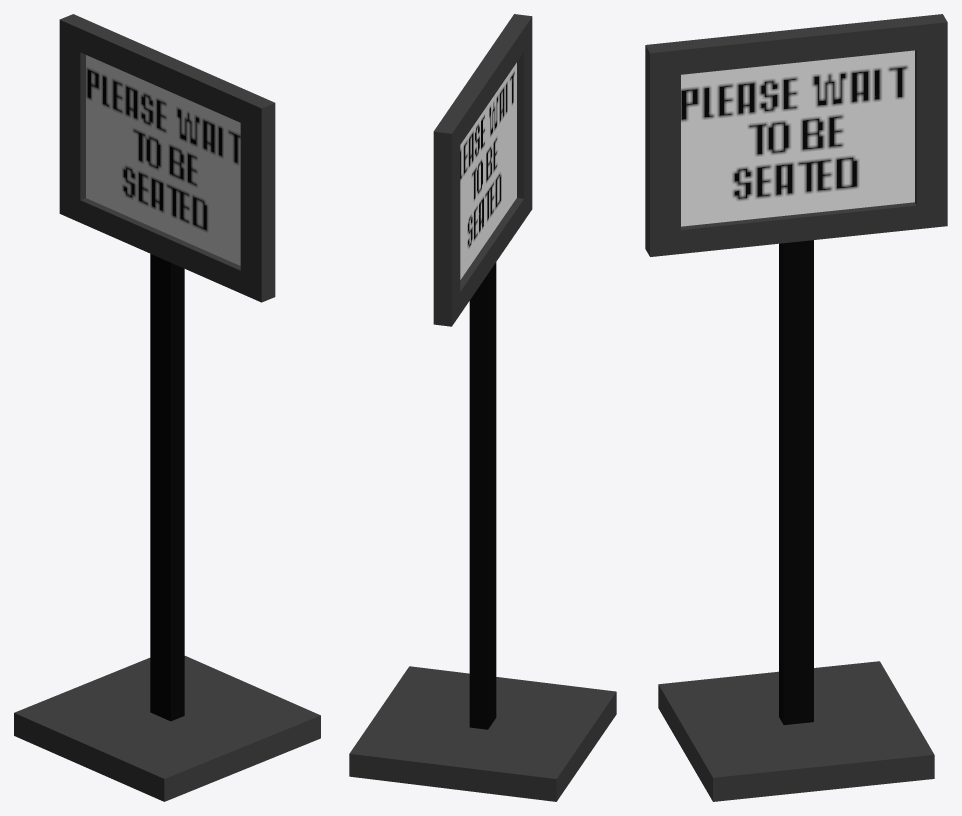
The model's file is BarSign.fbx.
3 renders of one model, left to right at view 1: azimuth 30°, elevation 25°; view 2: azimuth 150°, elevation 25°; view 3: azimuth 270°, elevation 25°, orthographic. The views are drawn at different scales.
Visible parts, largest first — view 1: Sign.001; view 2: Sign.001; view 3: Sign.001.
Part boxes in pixels (x1=…): Sign.001: x1=14, y1=14, x2=320, y2=801; Sign.001: x1=349, y1=14, x2=616, y2=801; Sign.001: x1=645, y1=14, x2=947, y2=801.
Size of the model in its own units: 56.8 by 161 by 62.22.
